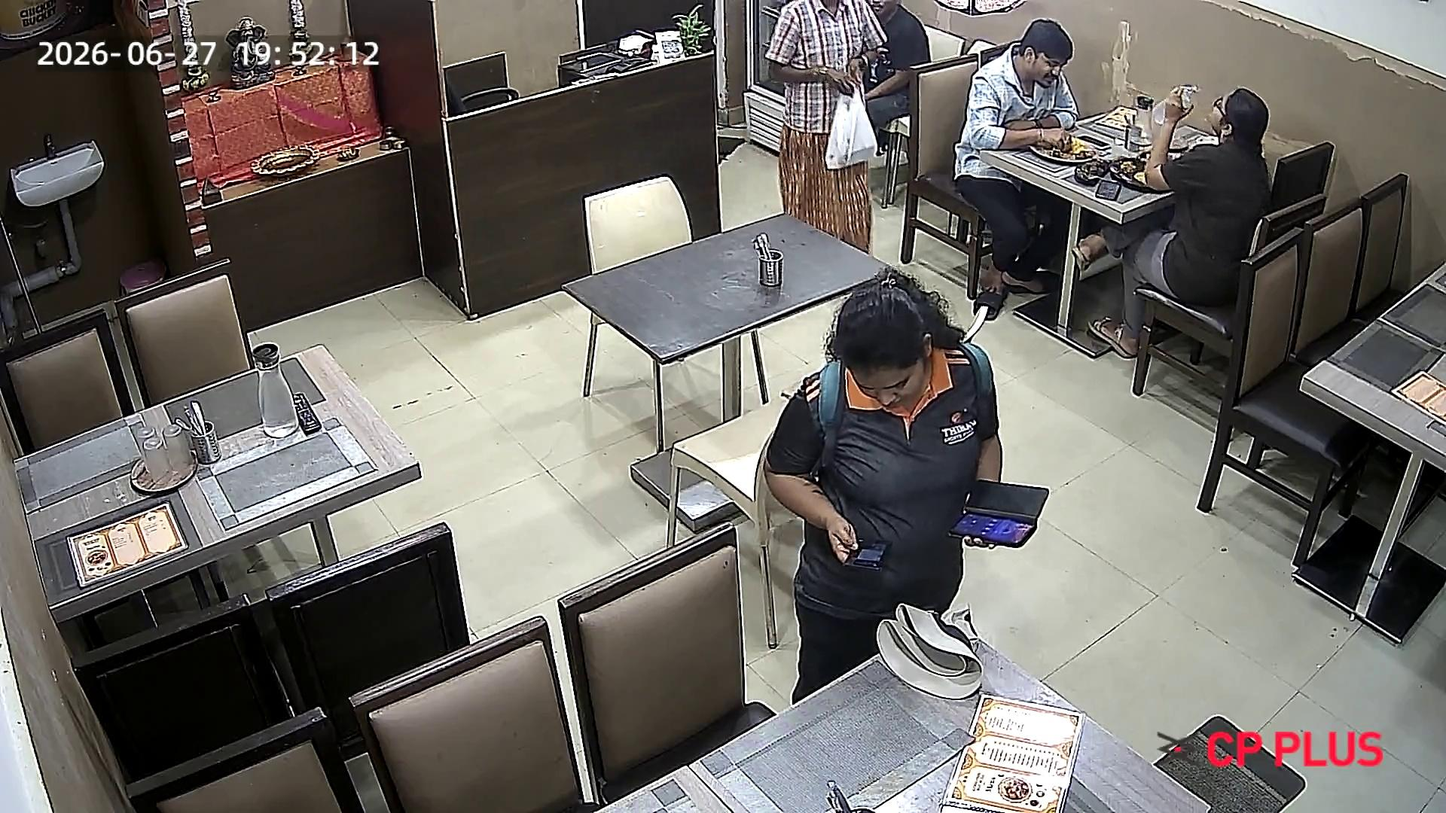clean: (17, 337, 430, 615), (556, 206, 899, 367)
occupied: (936, 44, 1277, 224)
